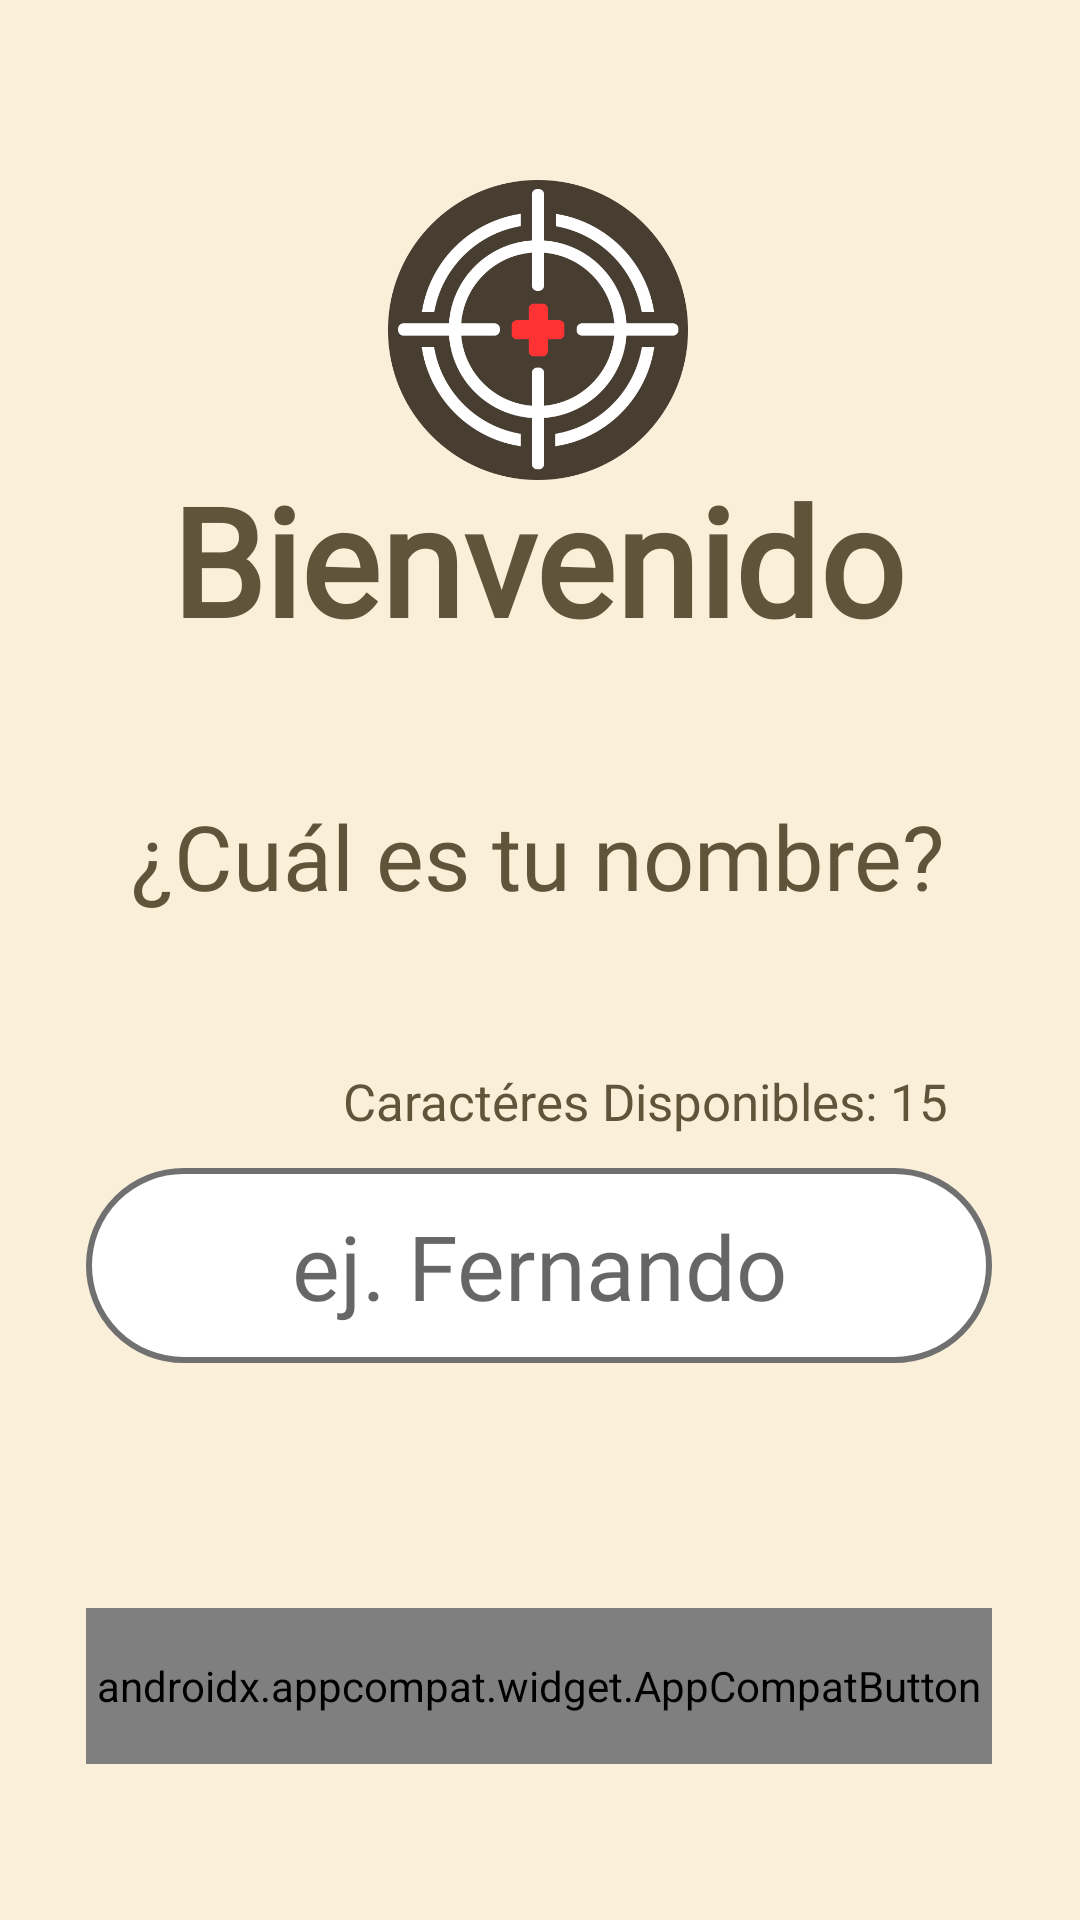

Named icons in this screenshot (1080px×1920px) and their bounding boxes, Rect(x1, y1, x2, y2):
Icono Aplicación Mira Roja: Rect(388, 180, 688, 480)
